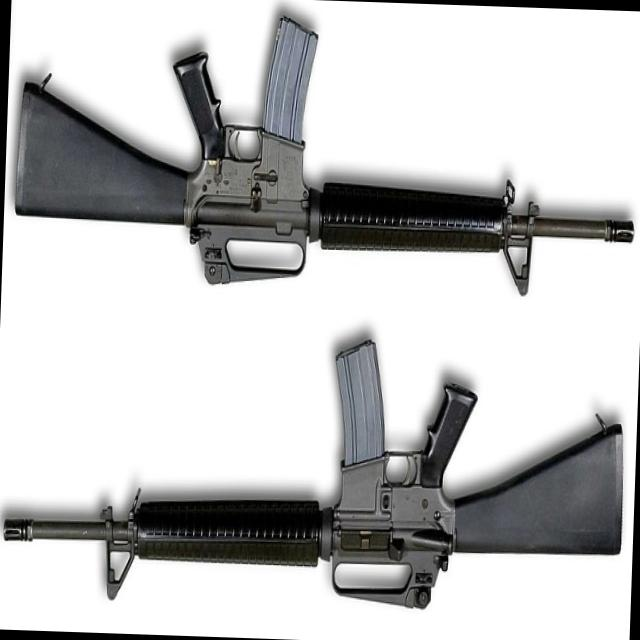Weapon: (0, 312, 629, 626), (8, 9, 636, 312)
